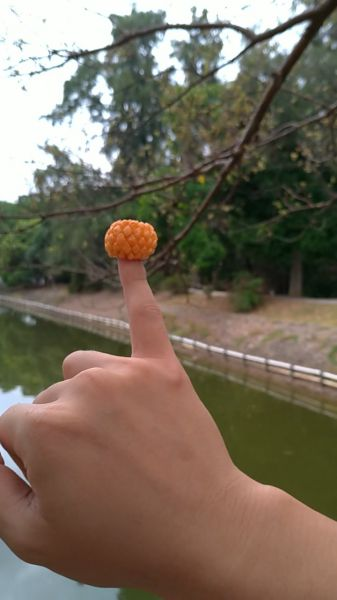eggs: (104, 219, 157, 261)
